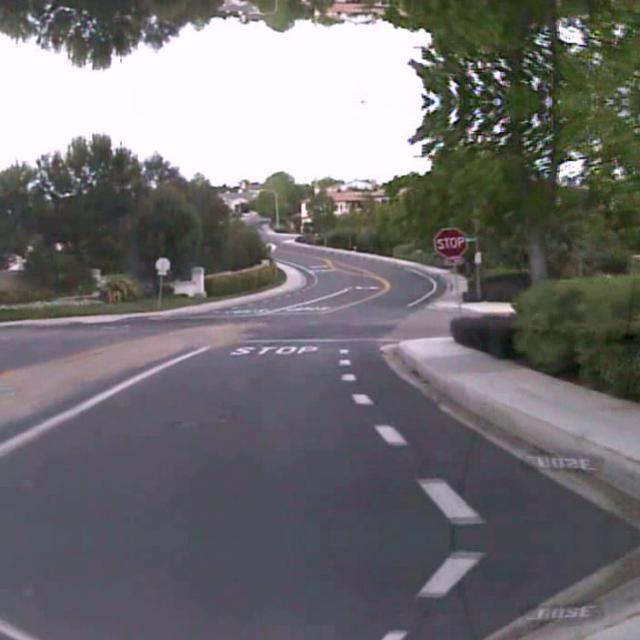stop: (433, 226, 467, 258)
